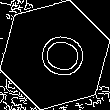O_W: (25, 28, 85, 82)
